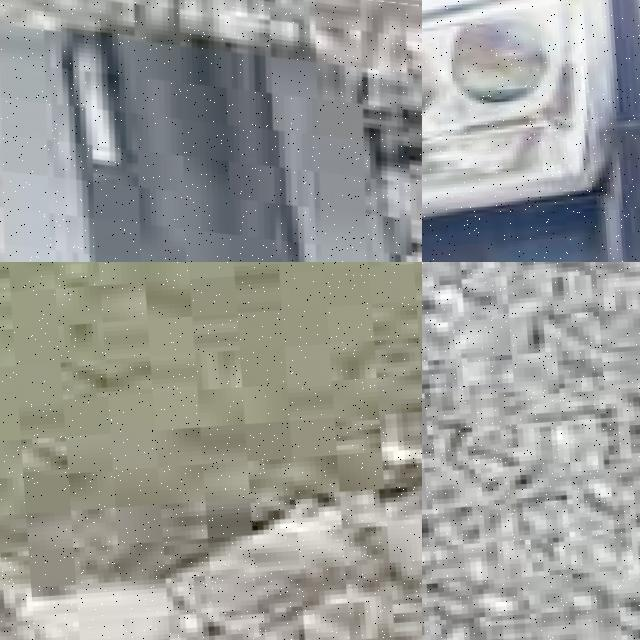drone: (0, 0, 422, 262)
